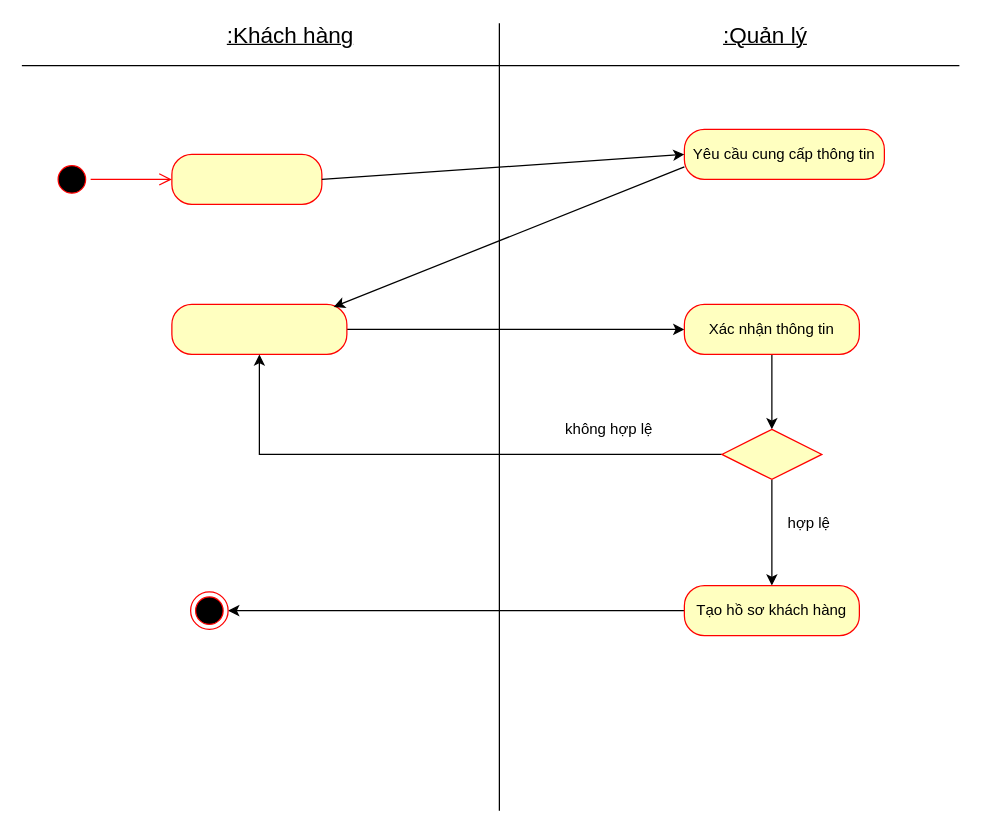
Some shapes in this 981 by 834 pixel diagram are drawn without their labels. The shapes that lost their labels are listed below. From the top down, each one's centre as x and y in pixels, then its label:
At (246,178): "Yêu cầu làm hồ sơ".
At (259,328): "Cung cấp thông tin".
